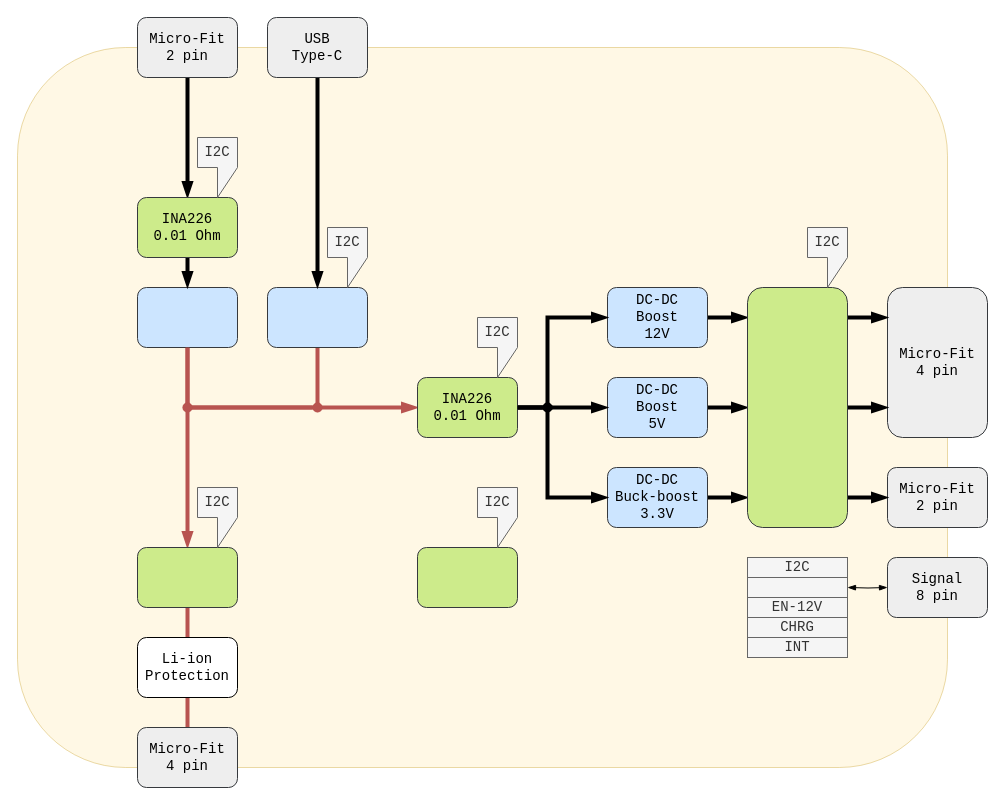
The diagram is 1005 pixels wide and 805 high, and some of its shapes have lost their labels. The box of each missing label's shape, as (x1, y1, x2, y2) in pixels:
DC-DC Charger MPPT: (136, 286, 238, 348)
DC-DC Charger USB: (266, 286, 368, 348)
EN-5V: (746, 576, 848, 598)
INA3221 0.01 Ohm: (746, 286, 848, 528)
Li-ion Fuel Gauge: (136, 546, 238, 608)
TMP112 Temperature: (416, 546, 518, 608)
